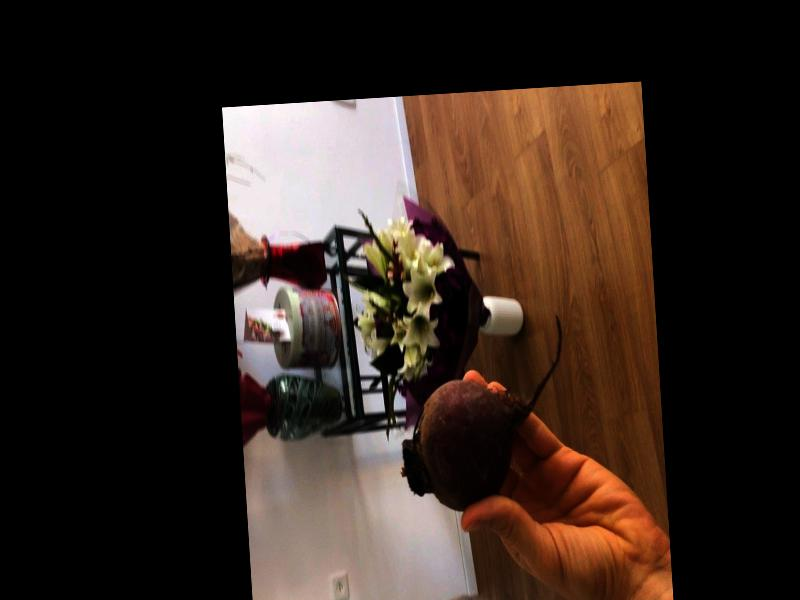Beet: (393, 311, 571, 513)
